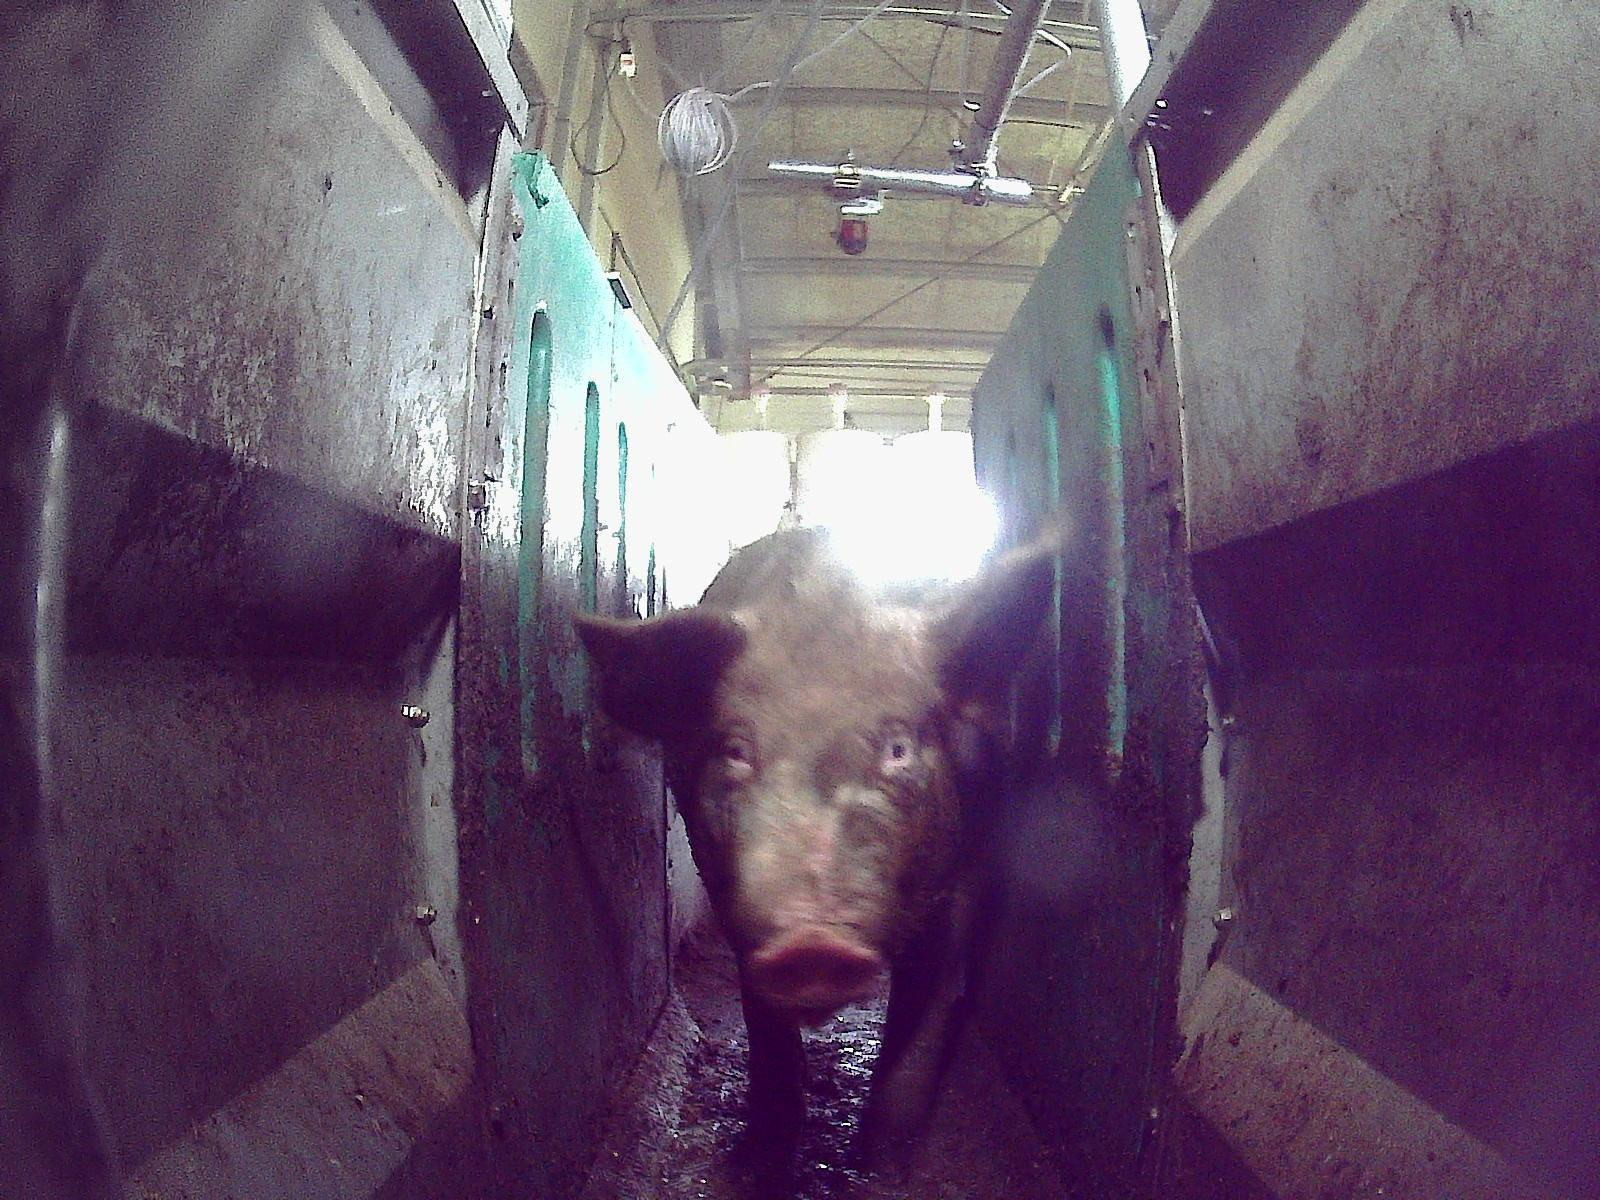Face: (689, 603, 954, 1008)
